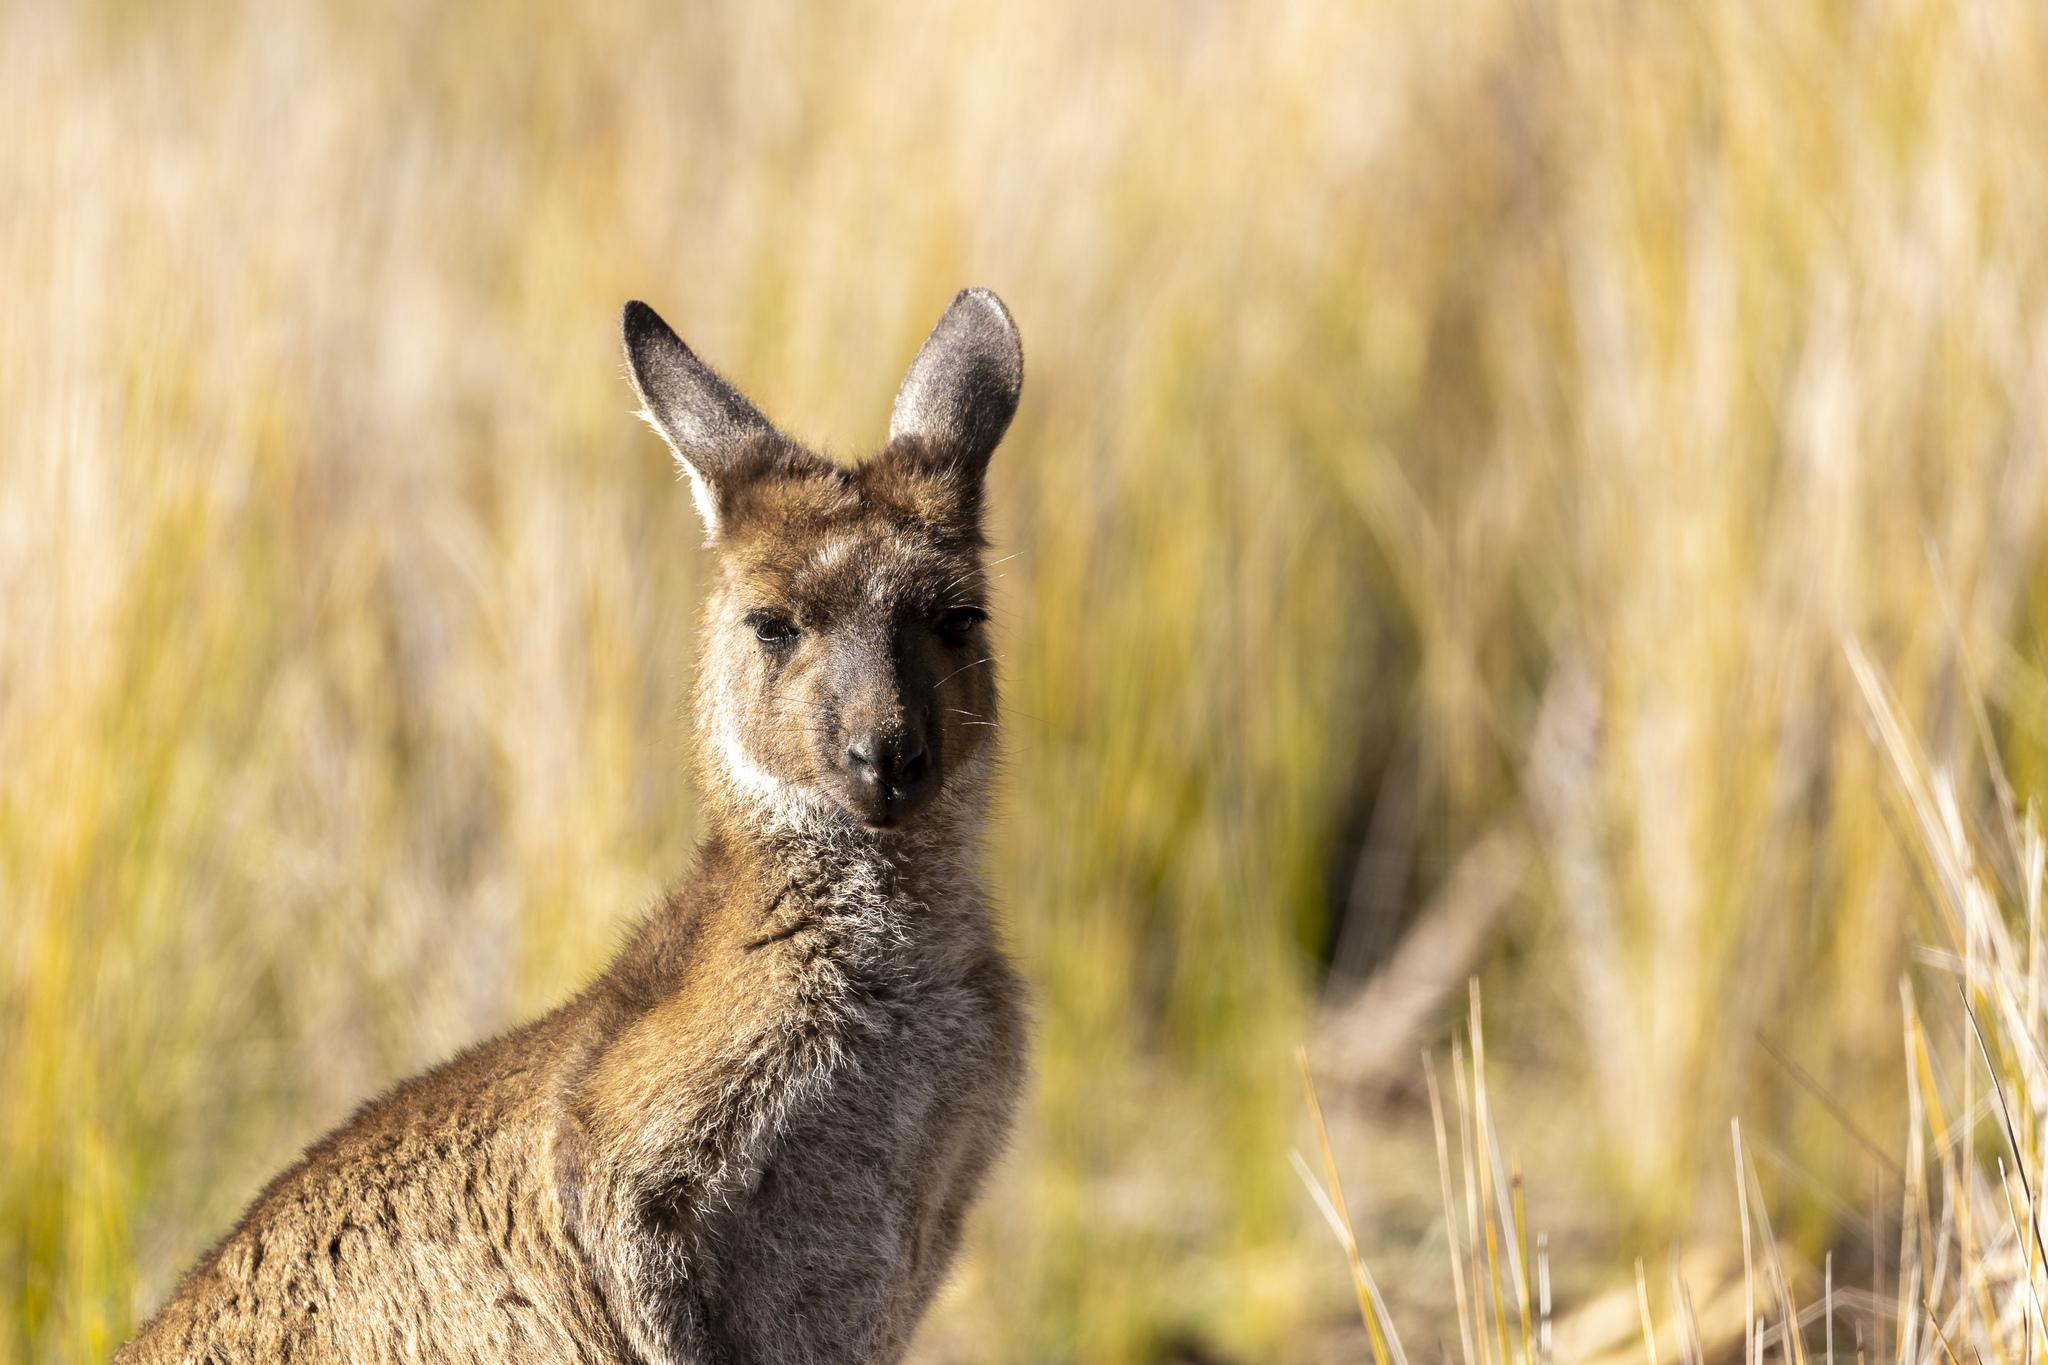Western grey kangaroo: (26, 288, 1172, 1363)
